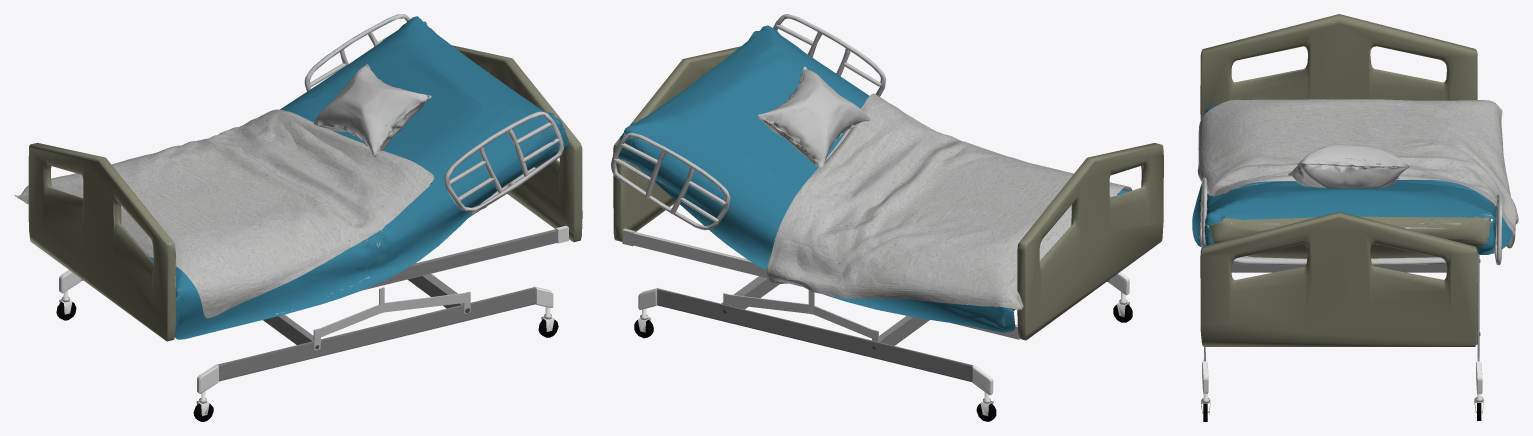
File: hospital_bed.glb
3 renders of one model, left to right at view 1: azimuth 30°, elevation 25°; view 2: azimuth 150°, elevation 25°; view 3: azimuth 270°, elevation 25°, orthographic.
Visible parts, largest first — view 1: NurbsCurve.005_Material.005_0, NurbsCurve.005_Material.006_0, NurbsCurve.005_Material.007_0, NurbsCurve.005_Material.003_0, NurbsCurve.005_Material.002_0, NurbsCurve.005_Material.008_0, NurbsCurve.005_Material.004_0, NurbsCurve.005_Material.010_0, NurbsCurve.005_Material.009_0; view 2: NurbsCurve.005_Material.005_0, NurbsCurve.005_Material.006_0, NurbsCurve.005_Material.007_0, NurbsCurve.005_Material.002_0, NurbsCurve.005_Material.003_0, NurbsCurve.005_Material.008_0, NurbsCurve.005_Material.004_0, NurbsCurve.005_Material.010_0, NurbsCurve.005_Material.009_0; view 3: NurbsCurve.005_Material.007_0, NurbsCurve.005_Material.005_0, NurbsCurve.005_Material.006_0, NurbsCurve.005_Material.008_0, NurbsCurve.005_Material.002_0, NurbsCurve.005_Material.003_0, NurbsCurve.005_Material.004_0.
Boxes of the visible parts, x1=… form: NurbsCurve.005_Material.005_0: x1=14, y1=109, x2=434, y2=318; NurbsCurve.005_Material.006_0: x1=149, y1=16, x2=568, y2=339; NurbsCurve.005_Material.007_0: x1=28, y1=45, x2=582, y2=341; NurbsCurve.005_Material.003_0: x1=81, y1=228, x2=558, y2=381; NurbsCurve.005_Material.002_0: x1=304, y1=14, x2=563, y2=350; NurbsCurve.005_Material.008_0: x1=313, y1=63, x2=431, y2=156; NurbsCurve.005_Material.004_0: x1=59, y1=225, x2=568, y2=393; NurbsCurve.005_Material.010_0: x1=56, y1=302, x2=558, y2=421; NurbsCurve.005_Material.009_0: x1=59, y1=290, x2=554, y2=415; NurbsCurve.005_Material.005_0: x1=766, y1=93, x2=1132, y2=310; NurbsCurve.005_Material.006_0: x1=616, y1=25, x2=1129, y2=332; NurbsCurve.005_Material.007_0: x1=613, y1=46, x2=1163, y2=340; NurbsCurve.005_Material.002_0: x1=611, y1=14, x2=1019, y2=341; NurbsCurve.005_Material.003_0: x1=657, y1=276, x2=1108, y2=381; NurbsCurve.005_Material.008_0: x1=757, y1=66, x2=870, y2=167; NurbsCurve.005_Material.004_0: x1=638, y1=271, x2=1129, y2=395; NurbsCurve.005_Material.010_0: x1=634, y1=304, x2=1132, y2=421; NurbsCurve.005_Material.009_0: x1=637, y1=292, x2=1129, y2=416; NurbsCurve.005_Material.007_0: x1=1200, y1=14, x2=1490, y2=346; NurbsCurve.005_Material.005_0: x1=1197, y1=99, x2=1518, y2=248; NurbsCurve.005_Material.006_0: x1=1192, y1=106, x2=1512, y2=254; NurbsCurve.005_Material.008_0: x1=1288, y1=144, x2=1409, y2=188; NurbsCurve.005_Material.002_0: x1=1199, y1=177, x2=1502, y2=343; NurbsCurve.005_Material.003_0: x1=1203, y1=253, x2=1479, y2=361; NurbsCurve.005_Material.004_0: x1=1202, y1=361, x2=1482, y2=393.
Bounding box in the file's own units: 3.47 × 1.79 × 2.34.
Materials: 10 (6 with a texture image).
